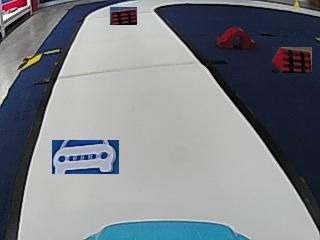bridge: (215, 26, 254, 48)
